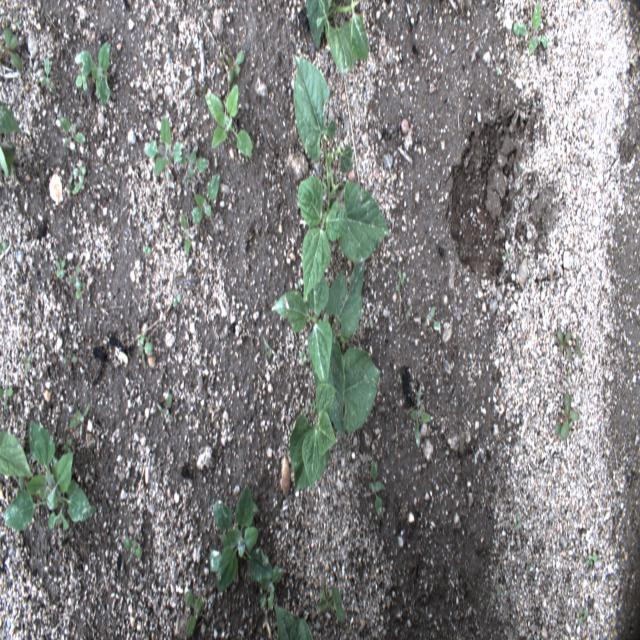crop: (294, 52, 390, 304), (270, 255, 382, 440), (289, 384, 337, 495), (304, 0, 369, 73), (0, 98, 23, 181), (0, 430, 33, 478), (272, 603, 314, 639)
weed: (4, 420, 98, 532), (209, 486, 274, 592), (205, 82, 253, 158), (73, 40, 112, 111), (144, 115, 186, 178), (512, 2, 548, 54), (191, 172, 221, 226), (410, 388, 432, 449), (554, 392, 579, 440), (318, 583, 347, 623), (260, 565, 283, 612), (0, 26, 22, 74), (181, 150, 210, 186), (369, 458, 383, 519), (60, 115, 86, 146), (68, 261, 86, 303), (226, 49, 247, 84), (185, 591, 202, 634), (137, 329, 153, 374), (68, 165, 87, 198), (423, 302, 441, 336), (40, 57, 56, 95), (159, 392, 174, 429), (179, 212, 191, 256), (69, 403, 91, 427), (0, 376, 15, 410), (121, 536, 142, 559), (262, 339, 279, 365), (557, 328, 571, 358), (22, 350, 34, 378), (64, 350, 78, 373), (395, 270, 407, 292), (75, 72, 88, 91), (172, 294, 183, 312), (574, 335, 582, 359), (578, 607, 588, 626), (55, 259, 65, 278), (404, 305, 412, 325), (585, 553, 597, 566), (141, 243, 152, 257), (0, 237, 8, 256), (396, 372, 402, 386), (516, 514, 520, 532), (618, 123, 624, 135), (526, 562, 534, 571), (164, 223, 168, 233), (496, 66, 499, 76)
